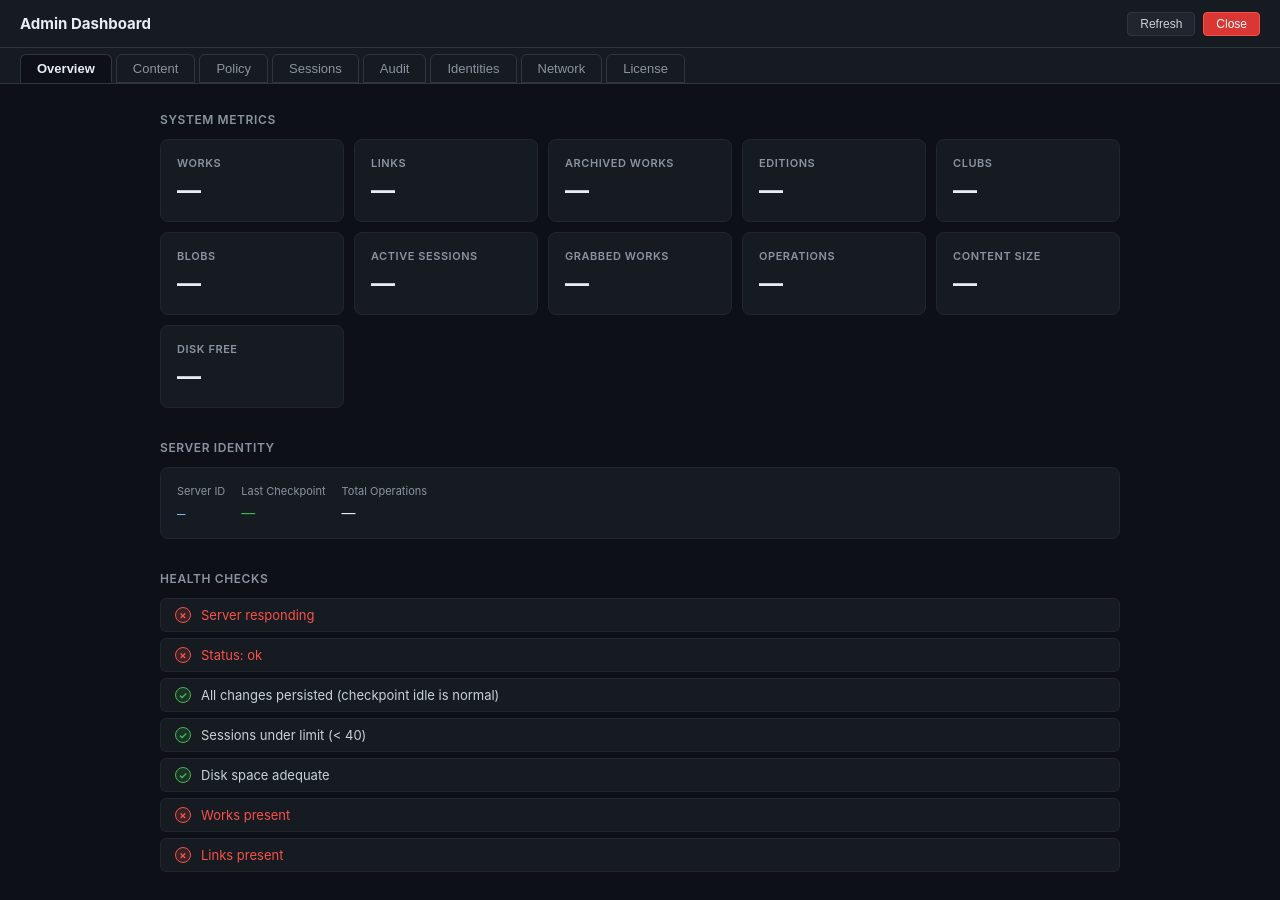
Scenario: AdminDashboard — License tab (FR-156) › shows the admin sign-in message when the server refuses
This screenshot has width=1280, height=900.
Click the button "License". click: (646, 68)
box: [606,54,685,83]
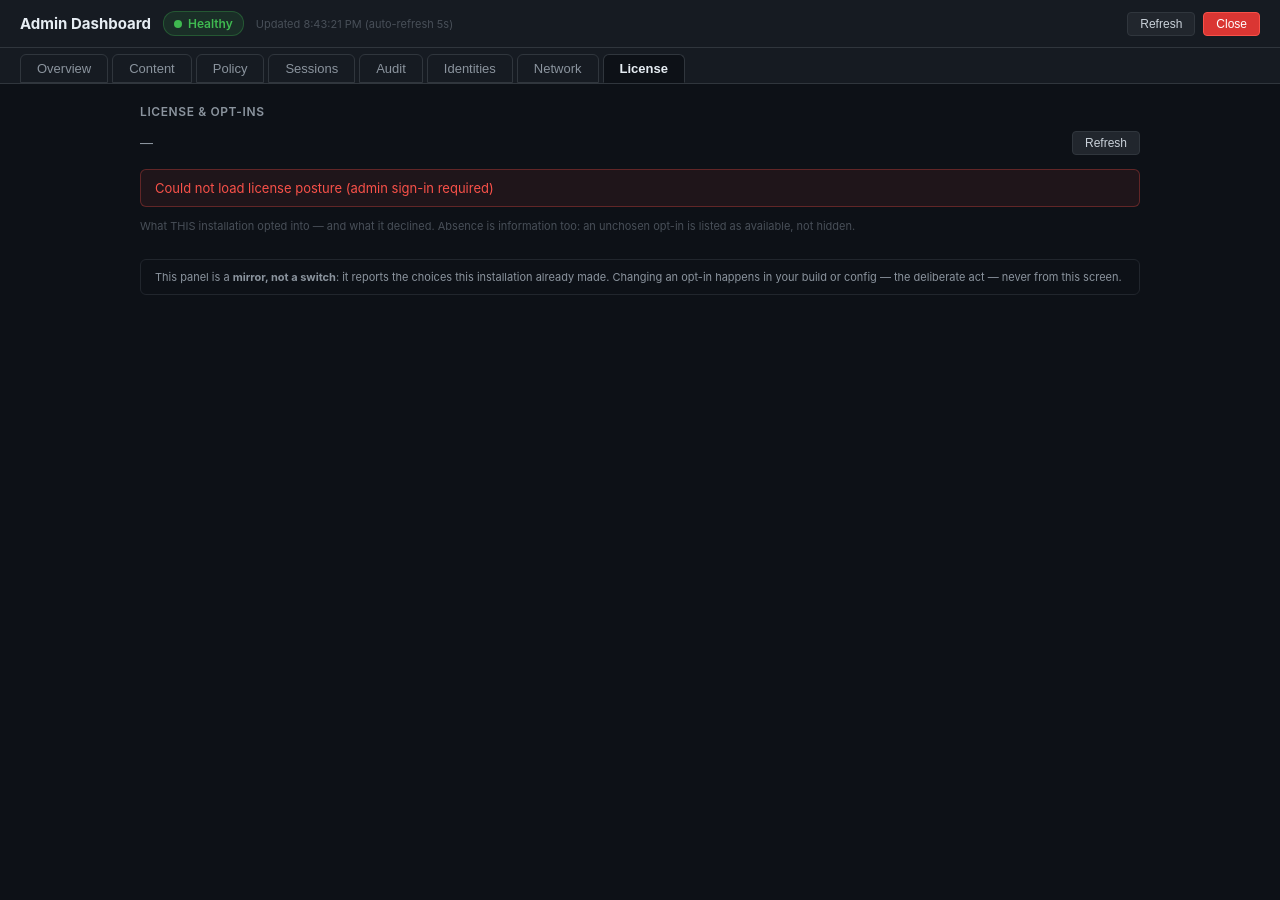
Expected: the text "Could not load license posture (admin sign-in required)" is shown, [140,169,1140,207]
